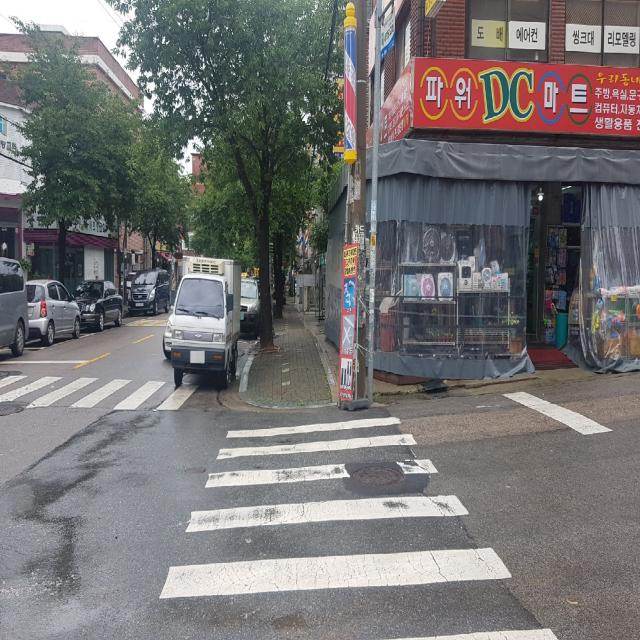횡단보도: (157, 411, 558, 640)
